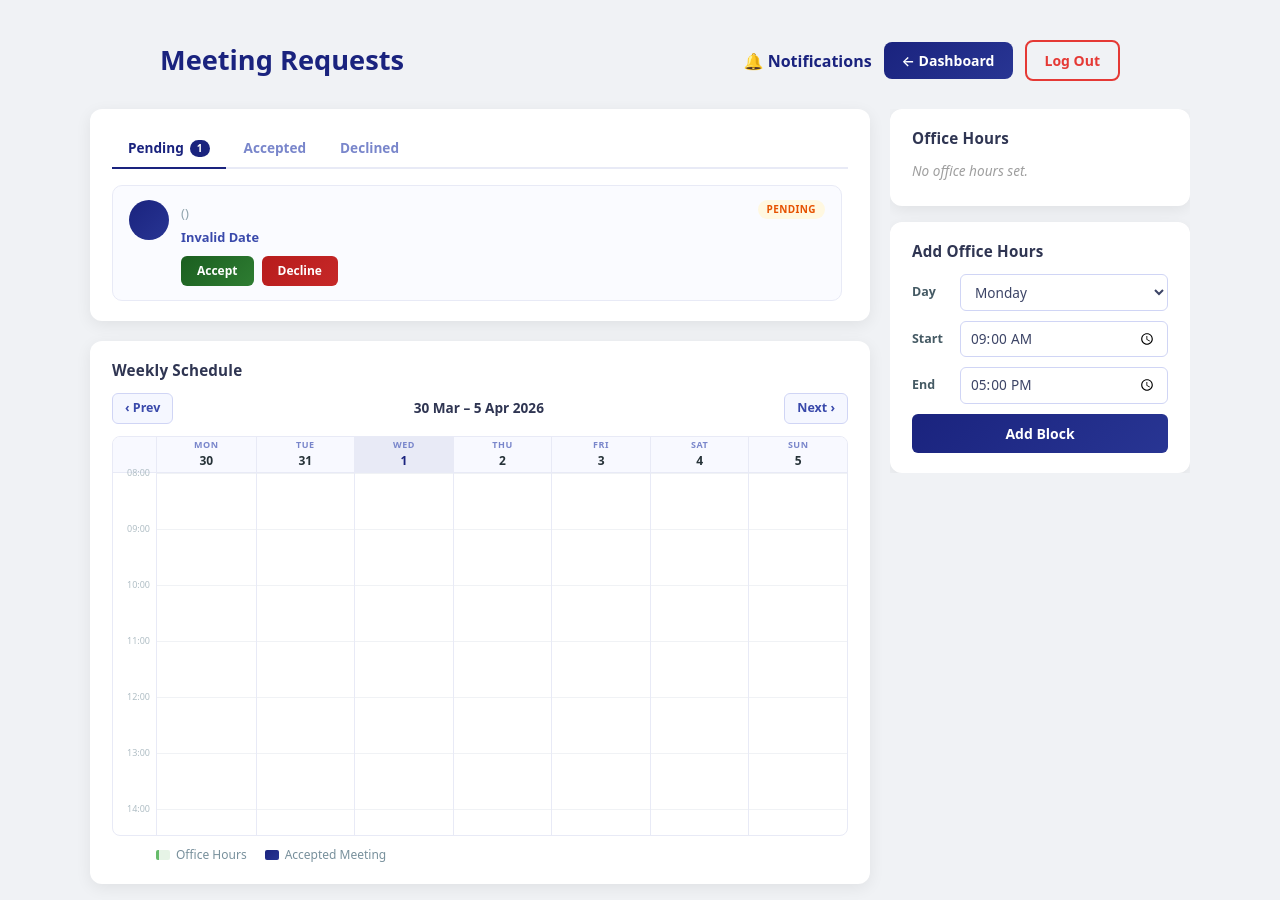
Test case: accept/deny/add office hours error handling
Expected: the heading "Meeting Requests" is shown, [160, 44, 404, 77]
Click the button "Accept".
click(217, 271)  # box [181, 256, 254, 286]
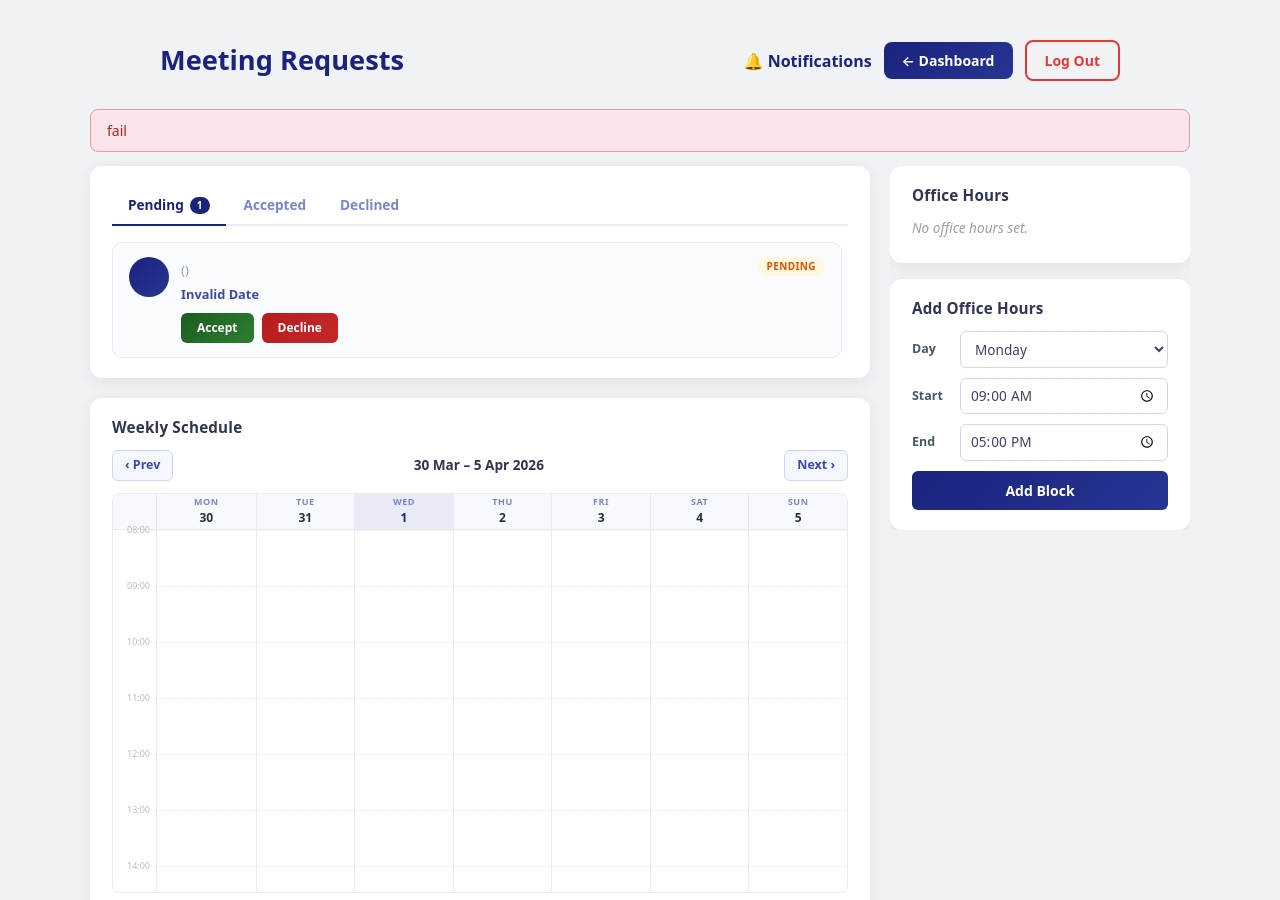
Now the text "fail" is shown, box [90, 109, 1190, 152]
